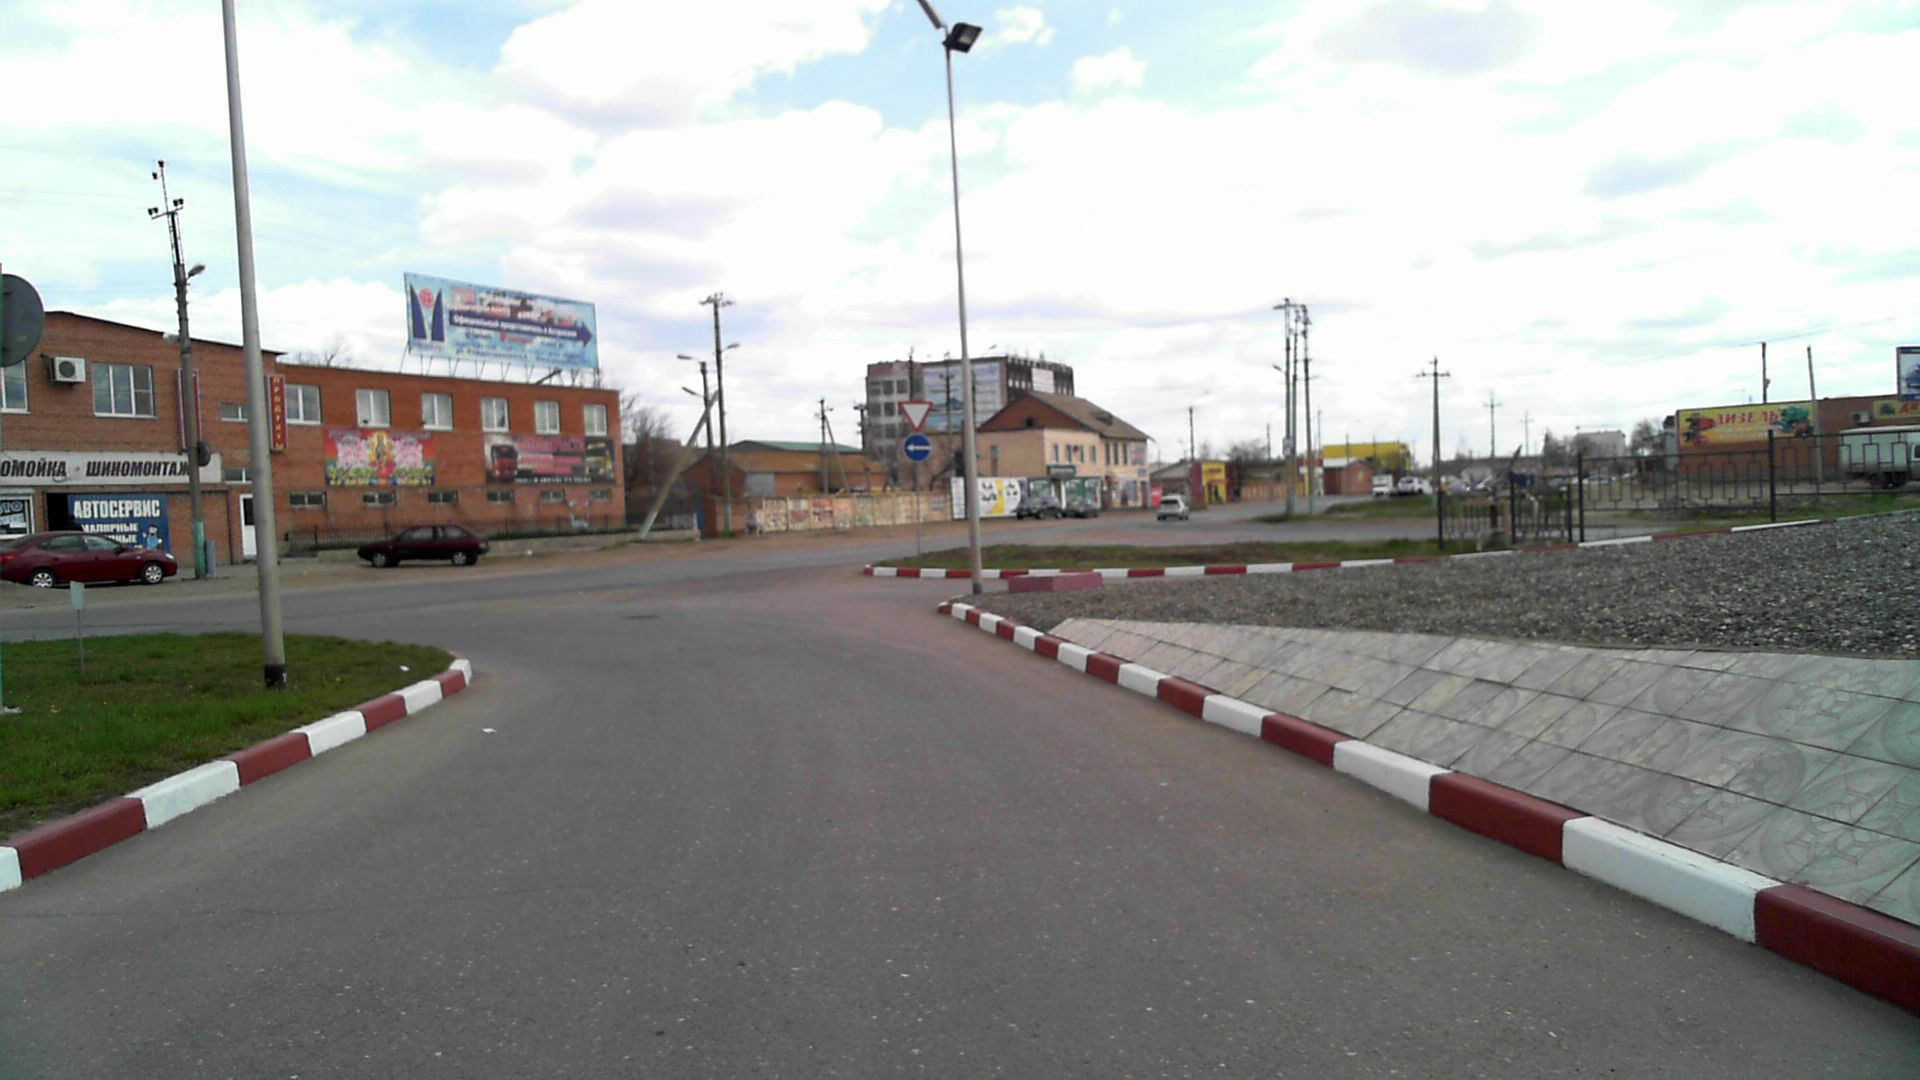Turn Left: (903, 434, 930, 462)
